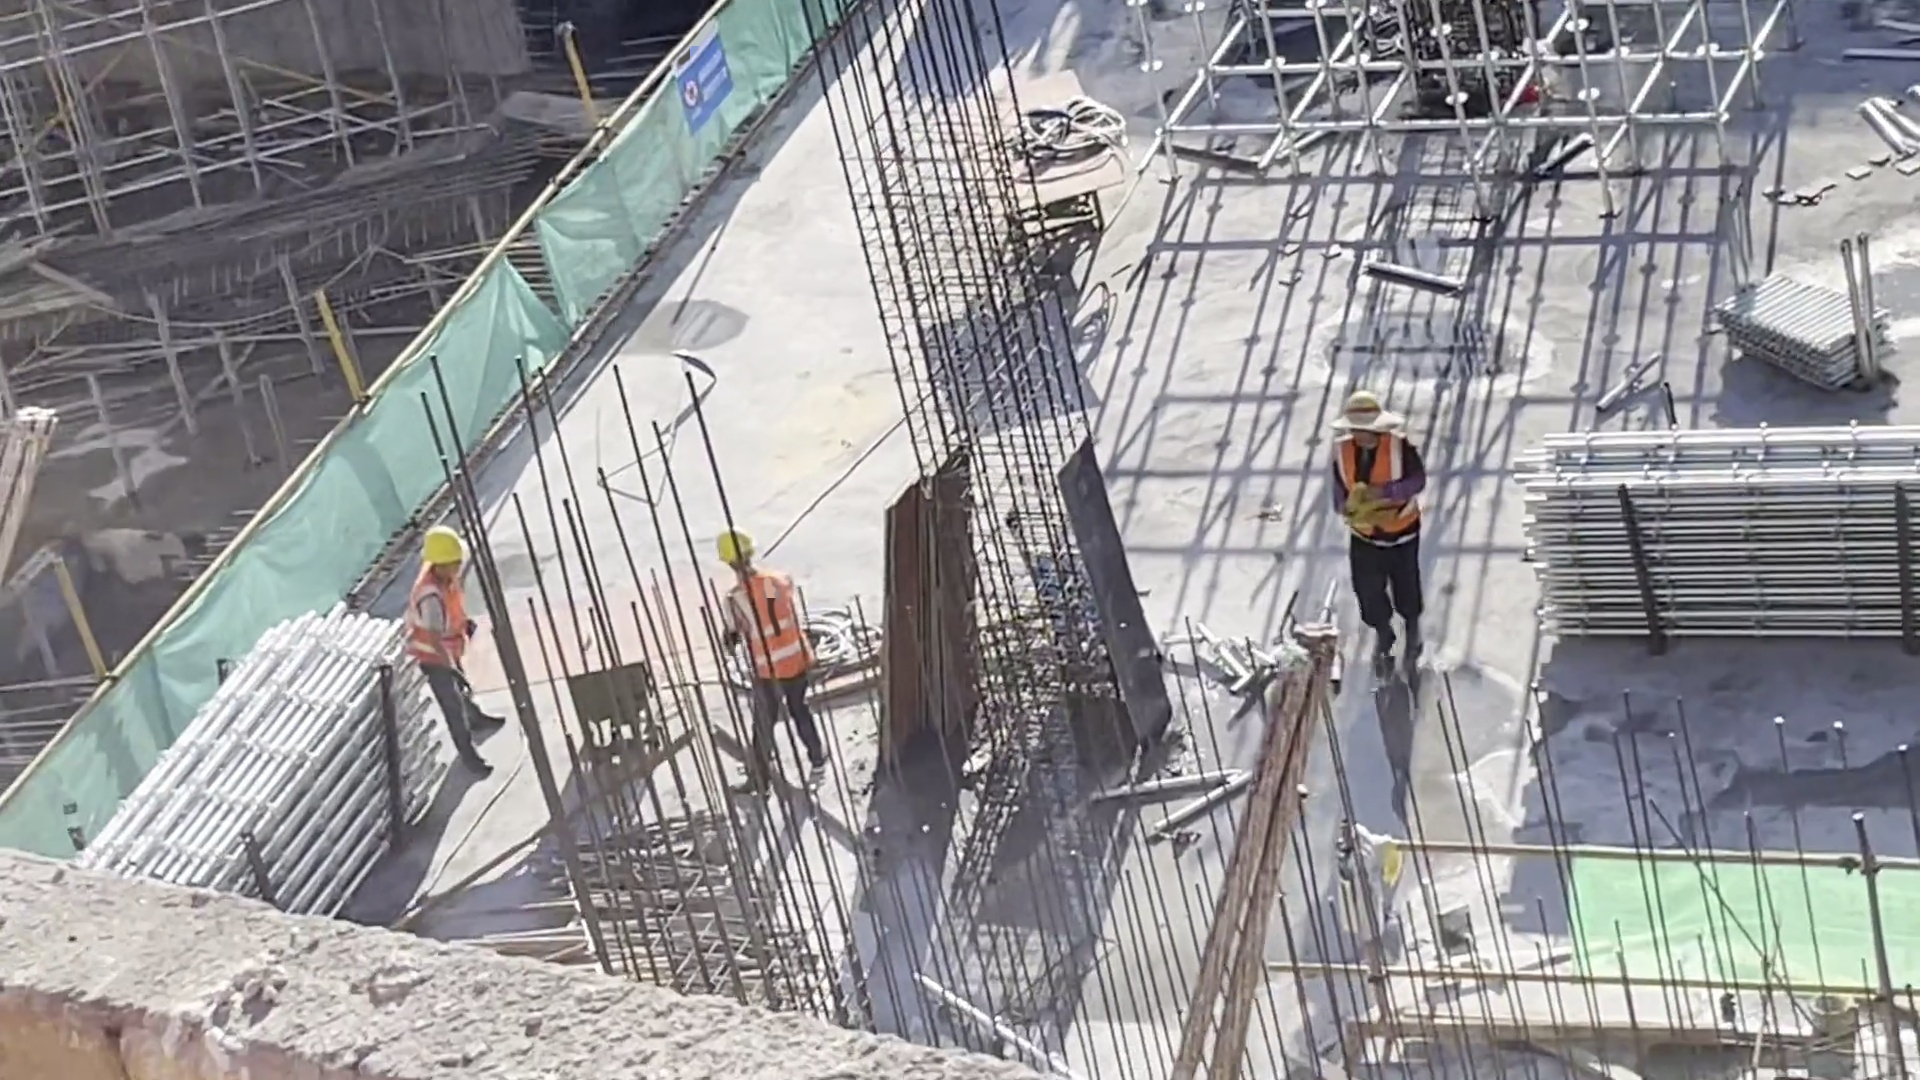helmet: (1334, 378, 1395, 436), (713, 525, 772, 566), (414, 525, 473, 561)
person: (708, 527, 836, 796), (1320, 385, 1431, 679), (403, 520, 509, 779)
scaffold: (67, 605, 455, 901), (1509, 415, 1920, 659)
vest: (1325, 434, 1413, 534), (724, 580, 811, 679), (405, 567, 483, 663)
